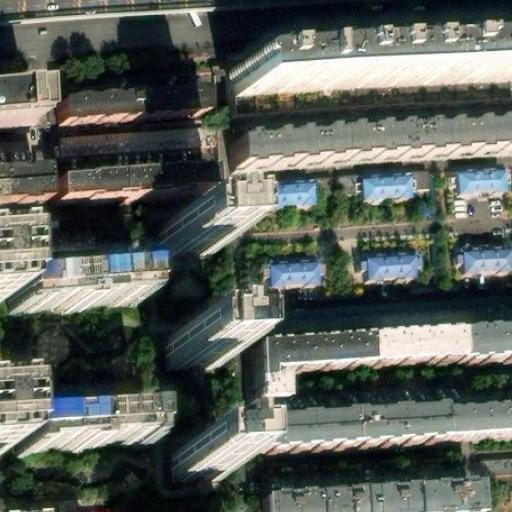building: (230, 60, 512, 108), (231, 118, 512, 165), (259, 406, 446, 454), (261, 486, 479, 512), (57, 85, 202, 122), (14, 264, 144, 304), (23, 409, 150, 448), (53, 162, 206, 194), (256, 336, 370, 376), (368, 331, 460, 366), (444, 402, 512, 441), (356, 262, 426, 292), (167, 333, 219, 370), (161, 242, 213, 279), (458, 327, 512, 361), (259, 268, 319, 298), (0, 165, 46, 202), (347, 309, 431, 328), (353, 181, 410, 209), (451, 257, 511, 283), (263, 314, 348, 332), (174, 440, 222, 471), (430, 305, 512, 323), (258, 189, 309, 217), (448, 179, 499, 207), (258, 374, 288, 406), (4, 499, 69, 512)
